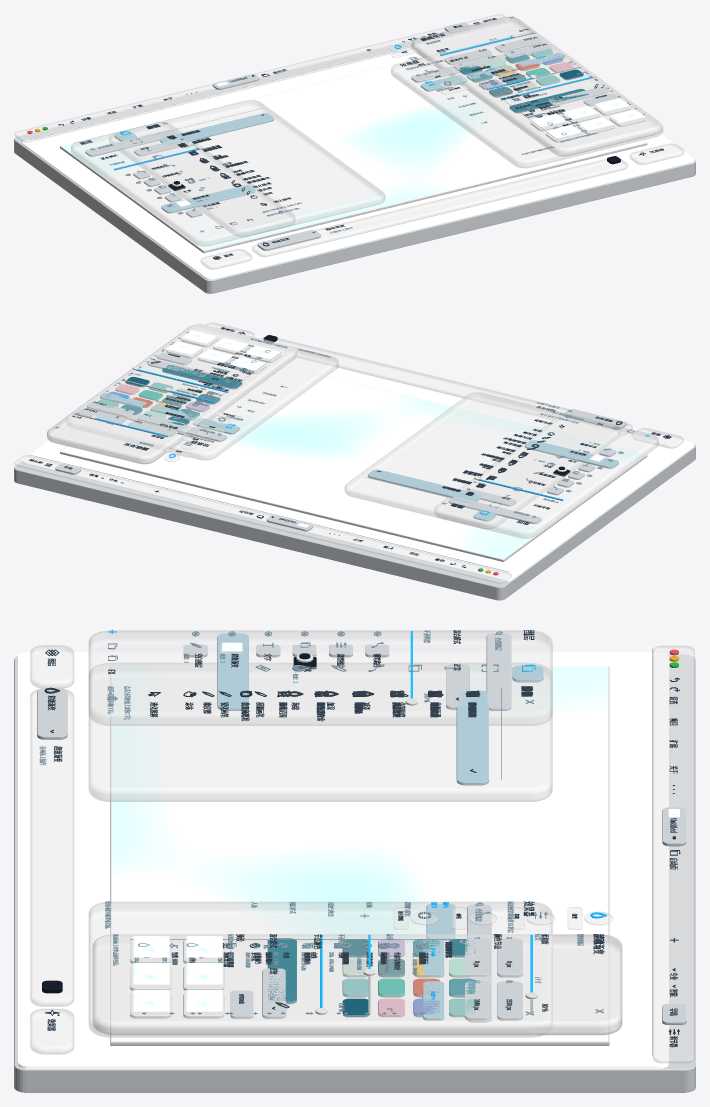
The model's file is image-pro.glb.
The picture shows the model from 3 angles, top to bottom: view 1: azimuth 30°, elevation 25°; view 2: azimuth 150°, elevation 25°; view 3: azimuth 270°, elevation 25°; orthographic projection. The views are drawn at different scales.
Parts seen in each view (by area): view 1: SuperGradientCanvas, Workspace, Tools.glassBody, WindowEdge, Layers.glassBody, BasicInspector.glassBody, Effects.glassBody, Inspector.glassBody, Titlebar.glass, Toolbar, CanvasPaper, Tools.tool.selected (+7 smaller); view 2: SuperGradientCanvas, Workspace, Tools.glassBody, WindowEdge, Layers.glassBody, BasicInspector.glassBody, Inspector.glassBody, Titlebar.glass, Effects.glassBody, Toolbar, CanvasPaper, Tools.tool.selected (+7 smaller); view 3: SuperGradientCanvas, Workspace, Tools.glassBody, Layers.glassBody, BasicInspector.glassBody, WindowEdge, Inspector.glassBody, Effects.glassBody, Titlebar.glass, Toolbar, CanvasPaper, Tools.tool.selected (+23 smaller).
Boxes of the visible parts, x1,y1,x2,y2 form: SuperGradientCanvas: (61, 38, 645, 250); Workspace: (22, 24, 694, 279); Tools.glassBody: (109, 100, 384, 236); WindowEdge: (14, 20, 695, 293); Layers.glassBody: (71, 122, 295, 246); BasicInspector.glassBody: (412, 17, 661, 156); Effects.glassBody: (391, 32, 662, 167); Inspector.glassBody: (412, 17, 660, 149); Titlebar.glass: (14, 14, 505, 142); Toolbar: (252, 158, 627, 256); CanvasPaper: (60, 57, 647, 253); Tools.tool.selected: (159, 113, 274, 144); SuperGradientCanvas: (61, 347, 645, 559); Workspace: (22, 325, 694, 581); Tools.glassBody: (345, 392, 620, 528); WindowEdge: (14, 444, 695, 600); Layers.glassBody: (434, 414, 658, 538); BasicInspector.glassBody: (47, 324, 296, 463); Inspector.glassBody: (47, 324, 295, 463); Titlebar.glass: (14, 455, 511, 583); Effects.glassBody: (98, 342, 338, 460); Toolbar: (262, 337, 632, 435); CanvasPaper: (60, 374, 647, 561); Tools.tool.selected: (367, 469, 481, 501); SuperGradientCanvas: (111, 666, 607, 1041); Workspace: (17, 652, 668, 1068); Tools.glassBody: (89, 663, 552, 801); Layers.glassBody: (89, 630, 552, 725); BasicInspector.glassBody: (93, 934, 621, 1034); WindowEdge: (14, 654, 695, 1092); Inspector.glassBody: (94, 934, 621, 1034); Effects.glassBody: (89, 902, 552, 1037); Titlebar.glass: (653, 646, 694, 1062); Toolbar: (30, 690, 73, 1006); CanvasPaper: (110, 666, 609, 1045); Tools.tool.selected: (456, 690, 488, 785).
Bounding box in the file's own units: 10 × 0.771 × 6.94.
